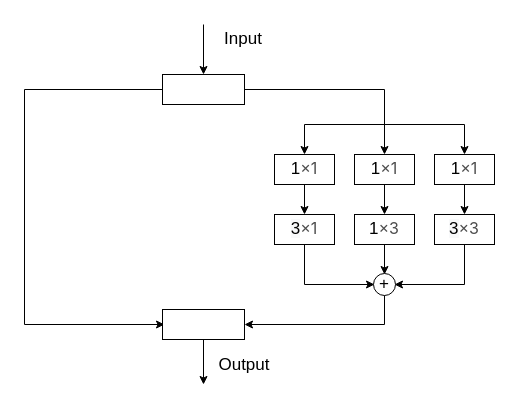
Some shapes in this 512 by 410 pixel diagram are drawn without their labels. The centre of each missing label's shape, as x and y in pixels:
Concat: point (203, 324)
Split: point (203, 89)
